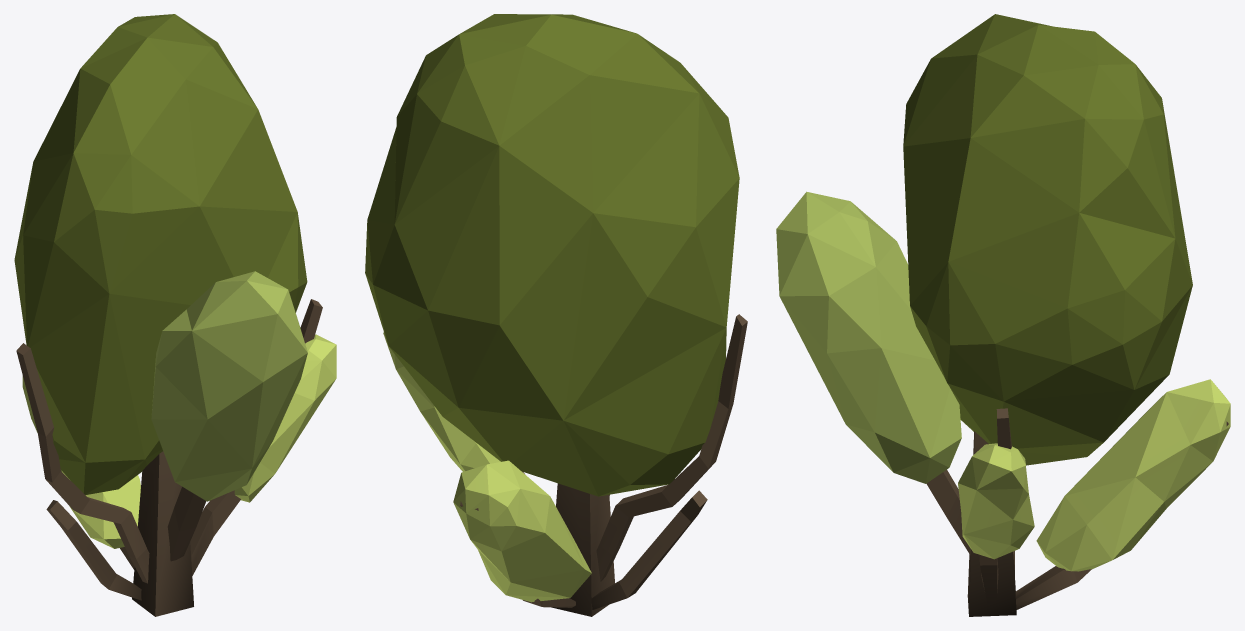
Rendered from EA03_Nature_Bush_02a.glb.
3 views of the same model, side by side, from view 1: azimuth 30°, elevation 25°; view 2: azimuth 150°, elevation 25°; view 3: azimuth 270°, elevation 25° (orthographic). The views are drawn at different scales.
Parts seen in each view (by area): view 1: EA03_Nature_Bush_02a; view 2: EA03_Nature_Bush_02a; view 3: EA03_Nature_Bush_02a.
Part boxes in pixels (box(x1,y1,x2,y2)): EA03_Nature_Bush_02a: box(14, 14, 336, 616); EA03_Nature_Bush_02a: box(365, 14, 747, 616); EA03_Nature_Bush_02a: box(776, 14, 1230, 616).
Bounding box in the file's own units: 2.22 × 3.66 × 2.58.
1 material, 1 textured.
